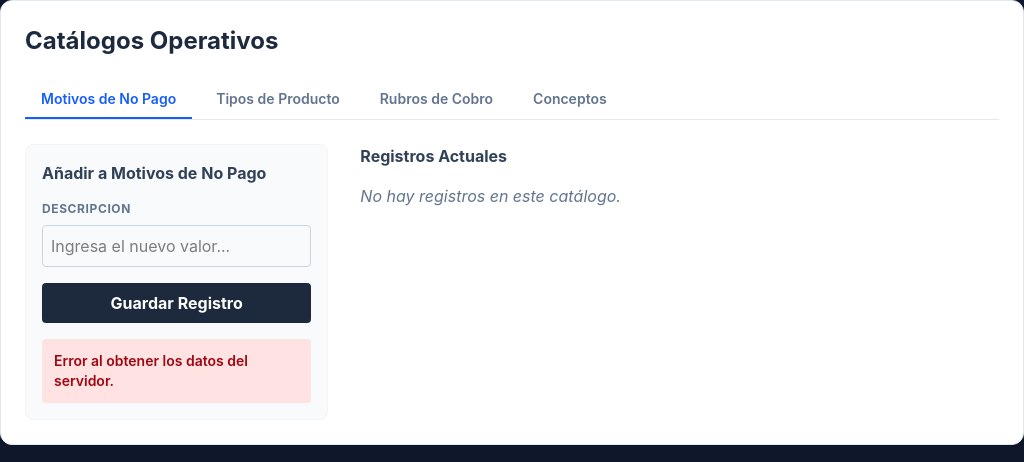
CatalogosManager: lectura › descarta la notificacion anterior al cambiar de pestana
This screenshot has width=1024, height=462.
Expected: the text "Error al obtener los datos del servidor." is shown, x1=42 y1=339 x2=311 y2=403
Click the button "Tipos de Producto" at (278, 100), box x1=200 y1=81 x2=356 y2=119
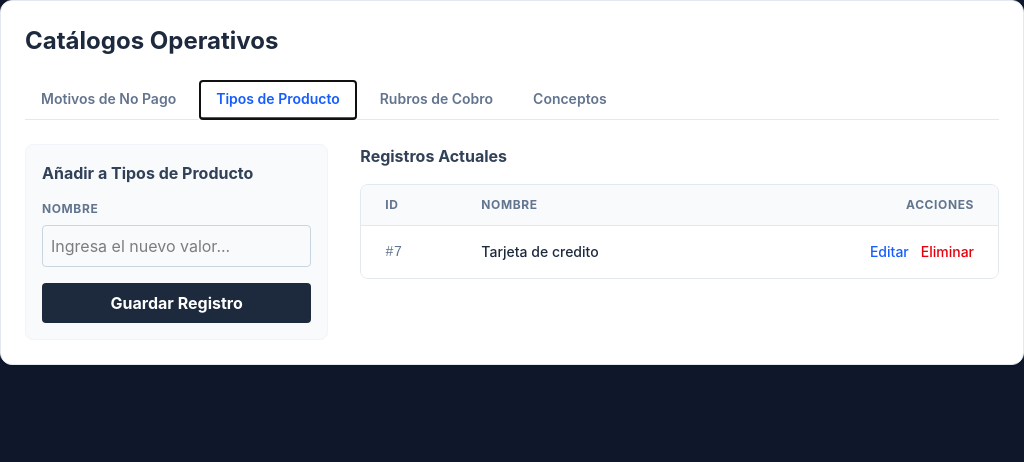
Expected: the text "Tarjeta de credito" is shown, x1=457 y1=226 x2=739 y2=278
Expected: the text "Error al obtener los datos del servidor." is gone
